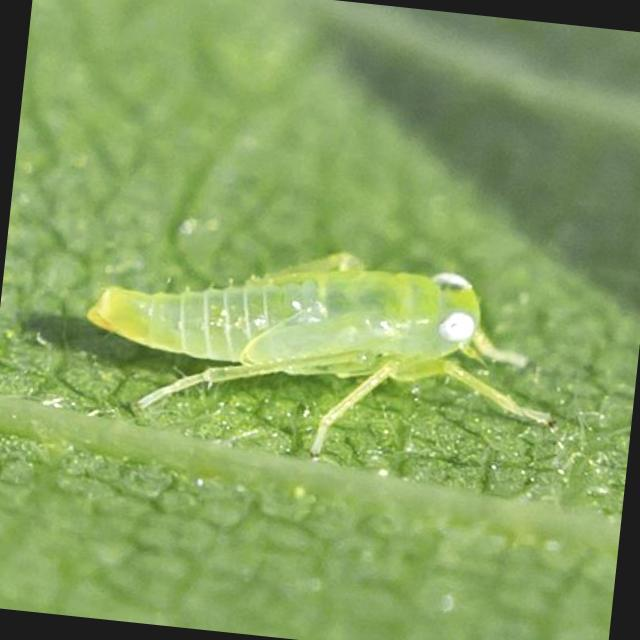green leaf hopper: (87, 253, 548, 454)
